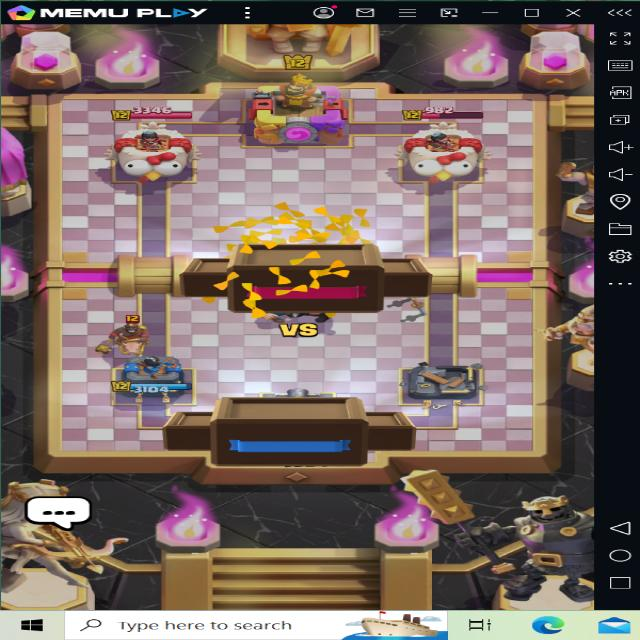Hog: (108, 306, 164, 361)
